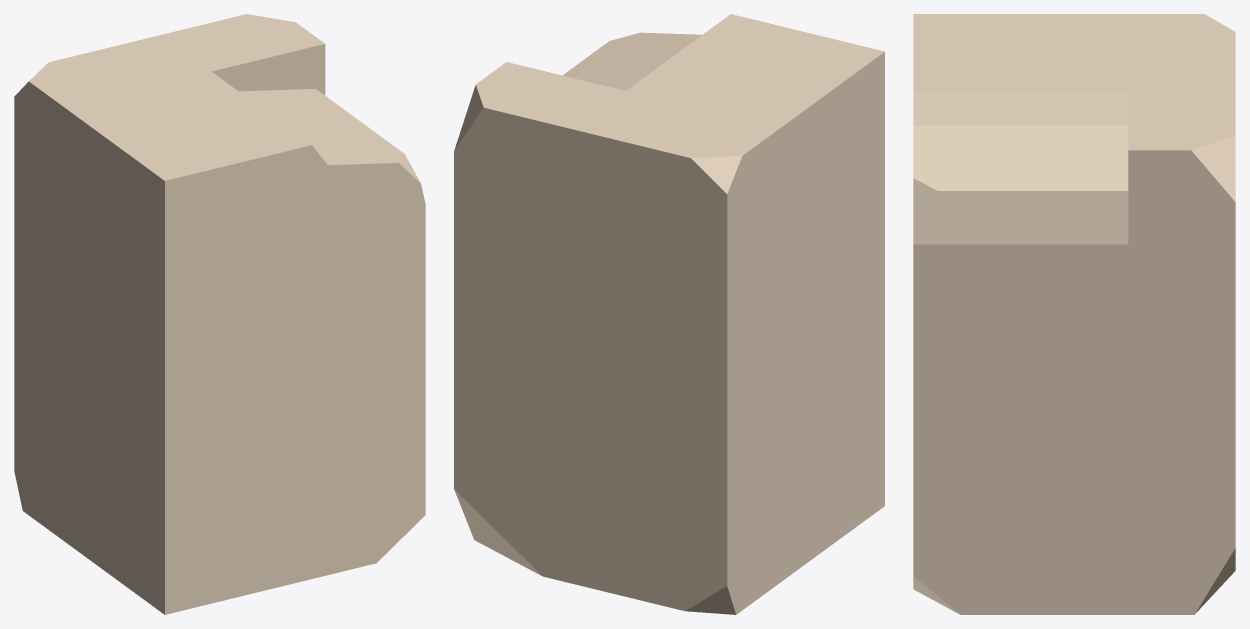
3 views of the same model, side by side, from view 1: azimuth 30°, elevation 25°; view 2: azimuth 150°, elevation 25°; view 3: azimuth 270°, elevation 25° (orthographic). The views are drawn at different scales.
Parts seen in each view (by area): view 1: object8; view 2: object8; view 3: object8.
Part boxes in pixels (box(x1,y1,x2,y2)): object8: box(14, 14, 425, 614); object8: box(454, 14, 884, 614); object8: box(913, 14, 1235, 614).
Bounding box in the file's own units: 0.15 × 0.2384 × 0.15.
